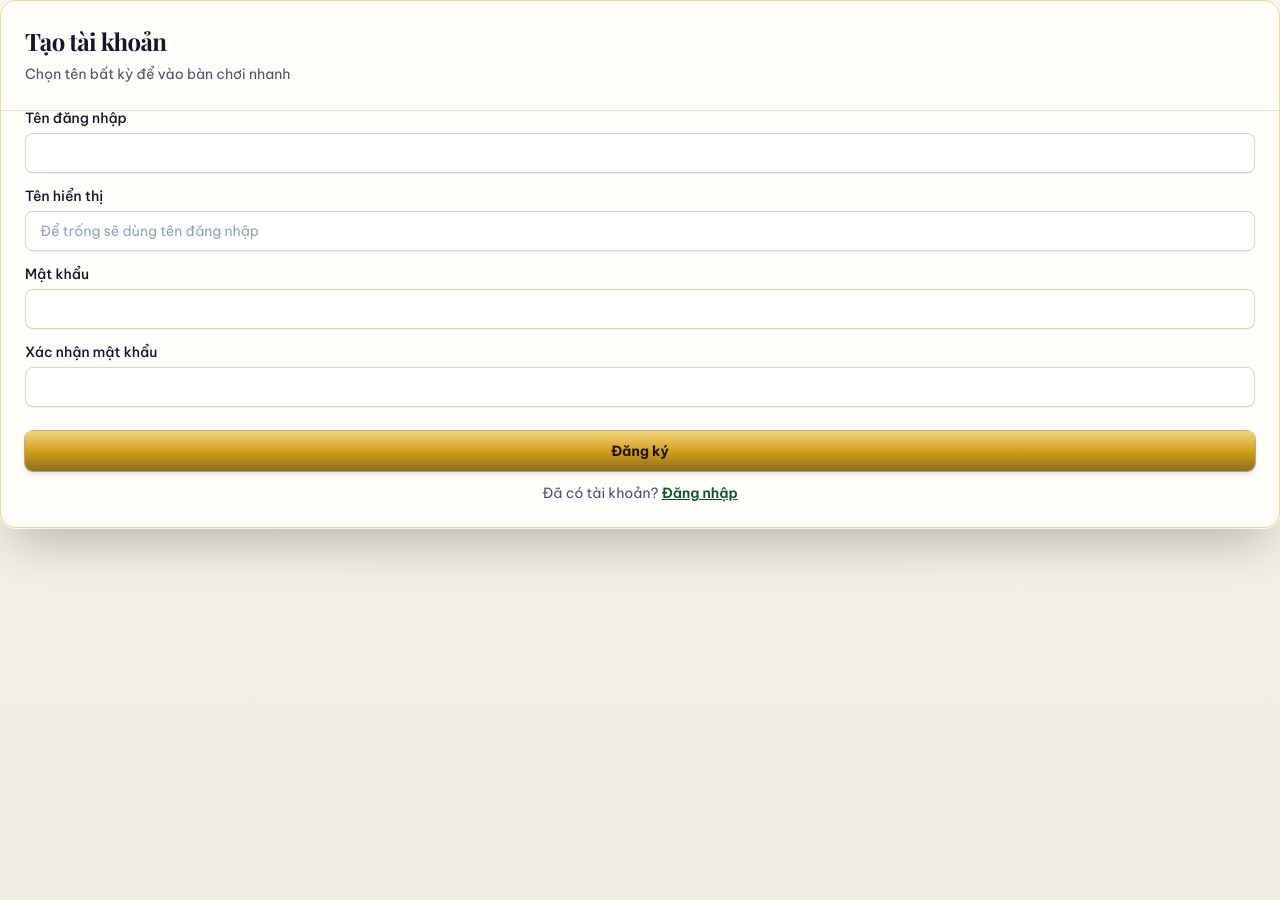
it: RegisterPage › submits any username without email and shows server errors
This screenshot has width=1280, height=900.
Type "Quang 123" into the field labelled "Tên đăng nhập" at {"x": 640, "y": 153}, box [25,133,1255,173]
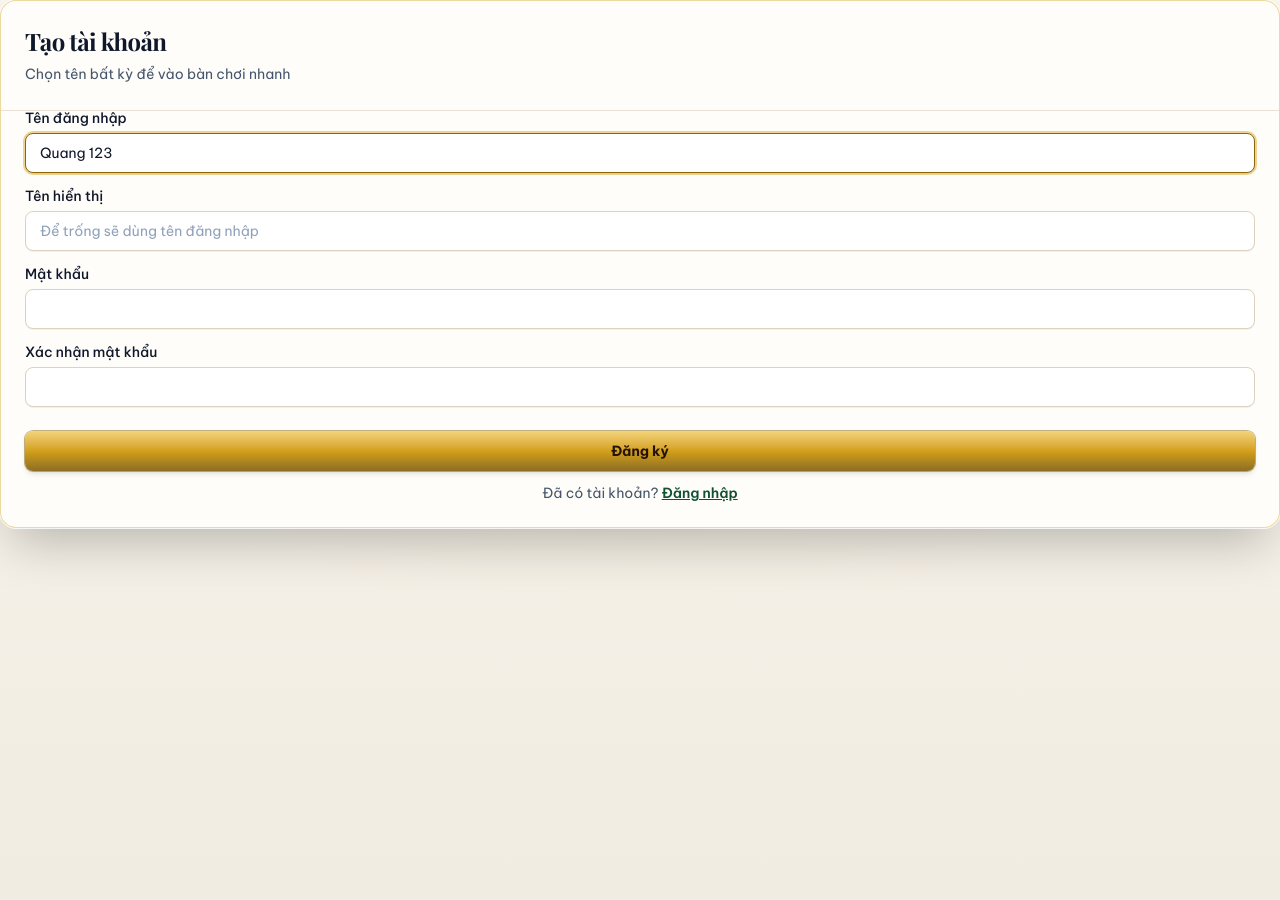
Type "secret123" into the password field labelled "Mật khẩu" at {"x": 640, "y": 309}, box [25,289,1255,329]
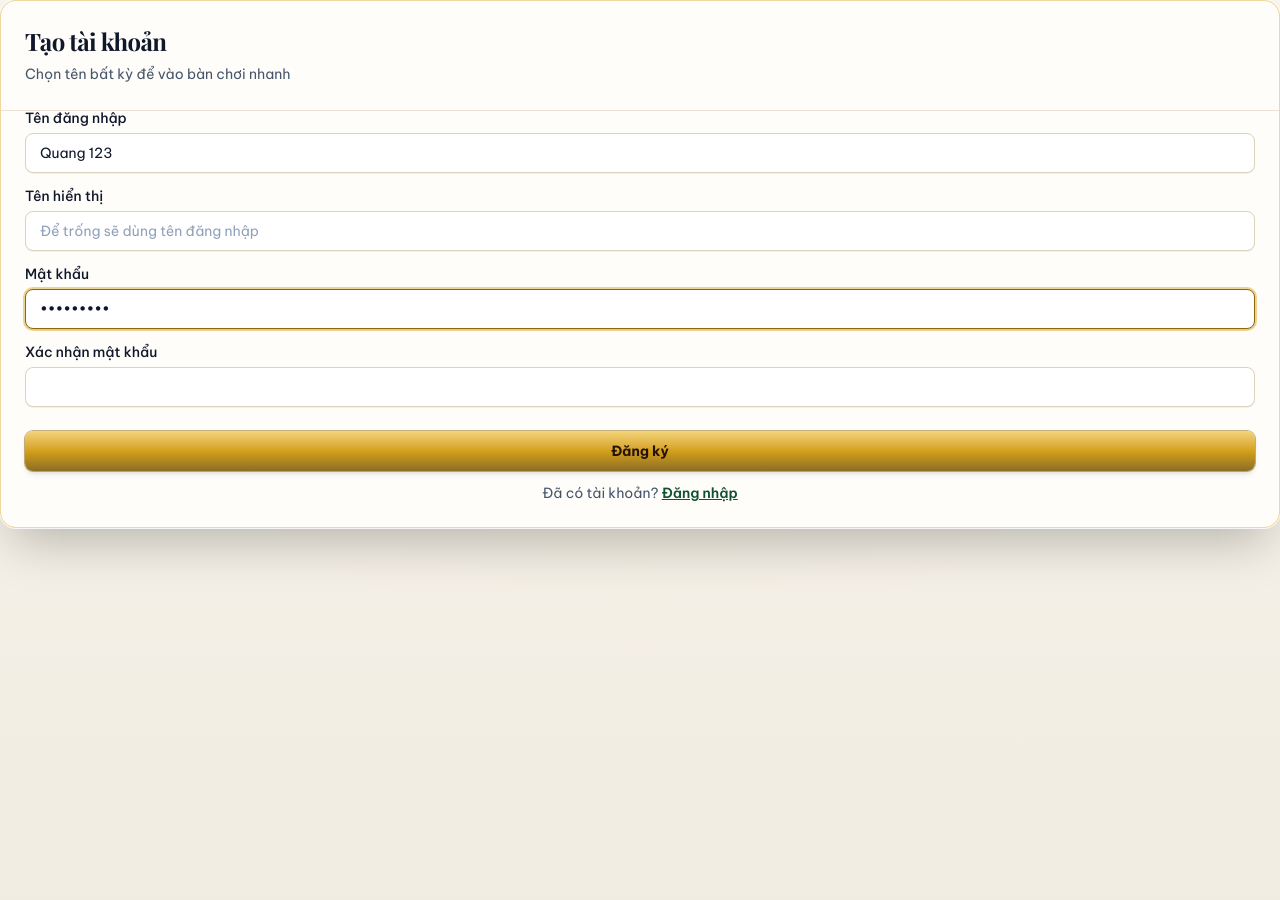
Type "secret123" into the password field labelled "Xác nhận mật khẩu" at {"x": 640, "y": 387}, box [25,367,1255,407]
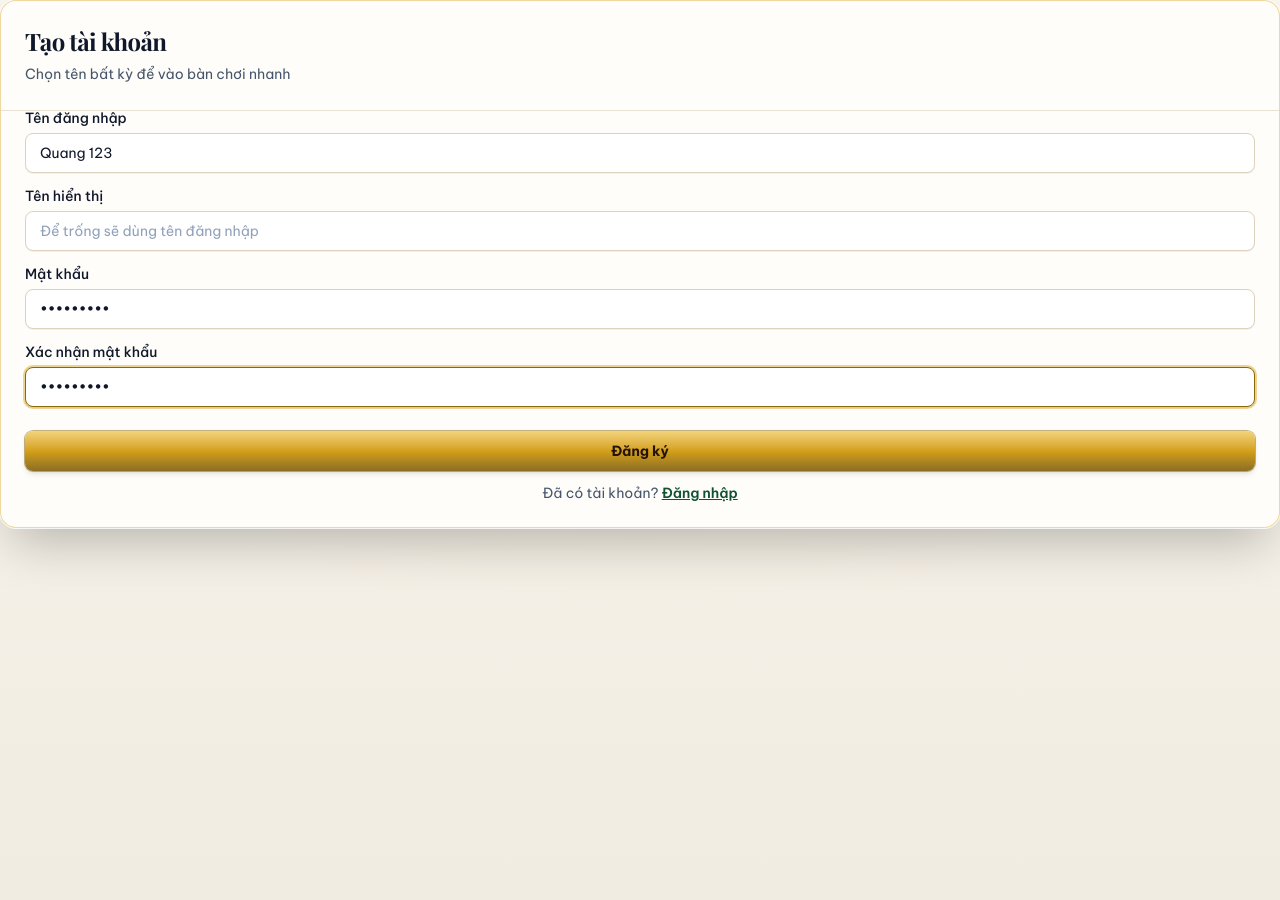
Click the button "Đăng ký" at {"x": 640, "y": 451}, box [25,431,1255,471]
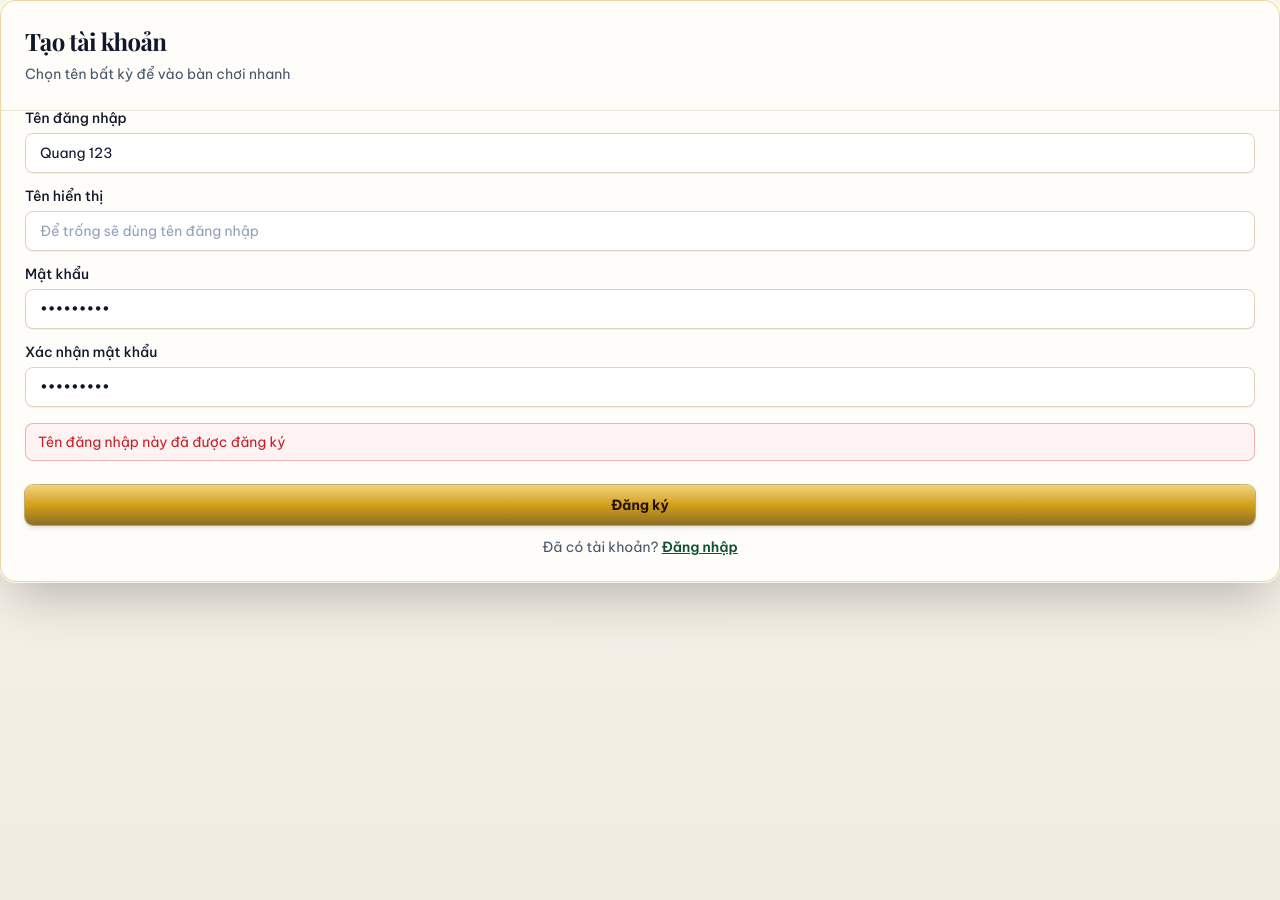
Expected: the message reads "Tên đăng nhập này đã được đăng ký", [38,433,286,451]
